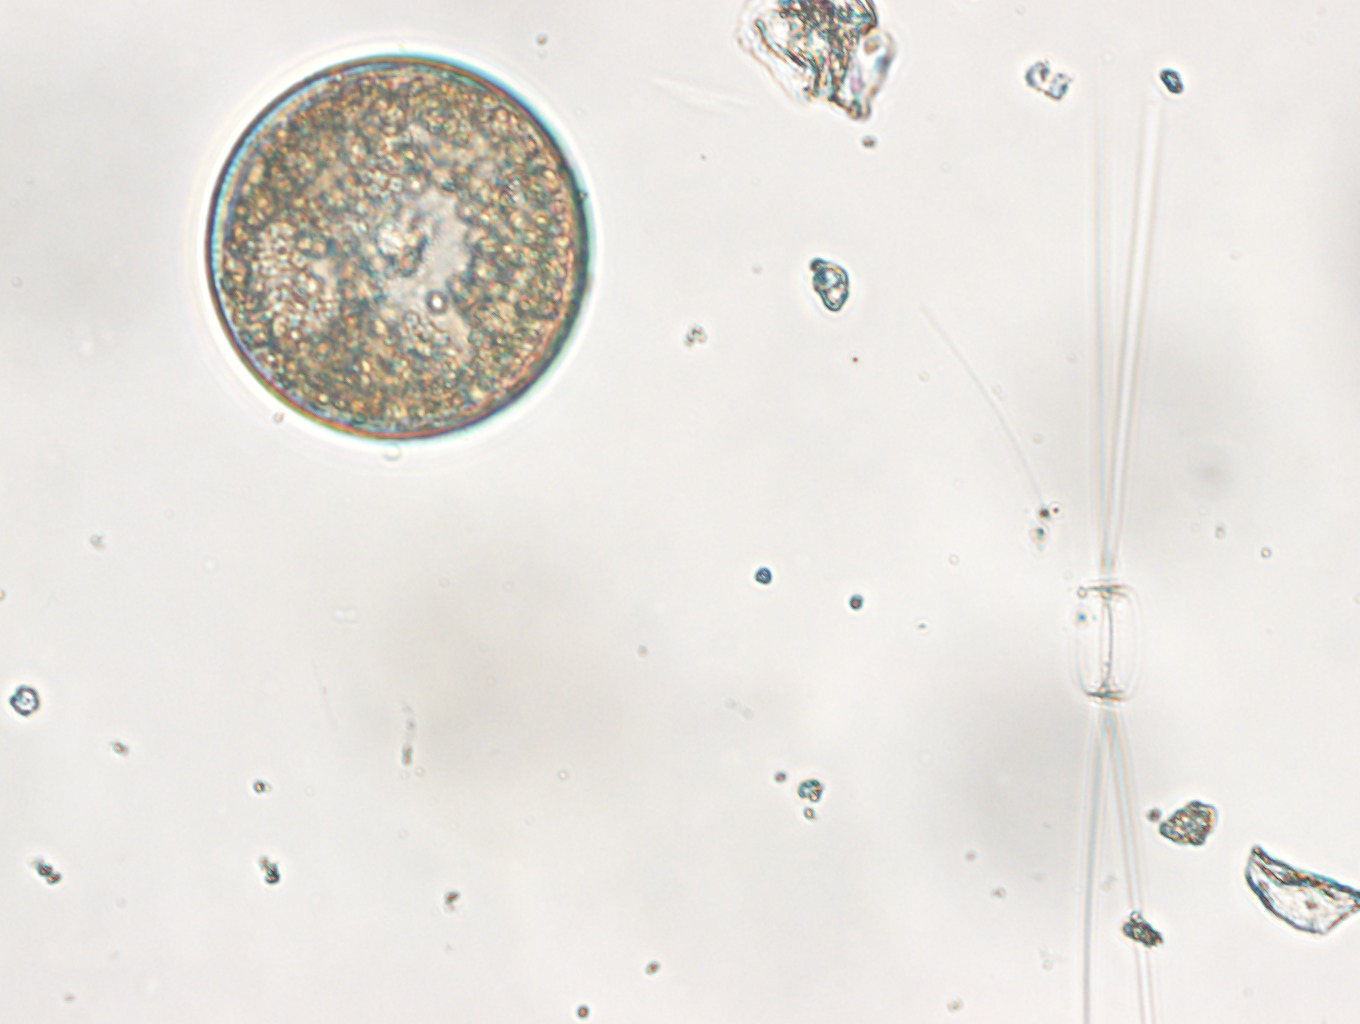chaetoceros: (1074, 72, 1165, 1024)
coscinodiscus: (201, 49, 590, 441)
